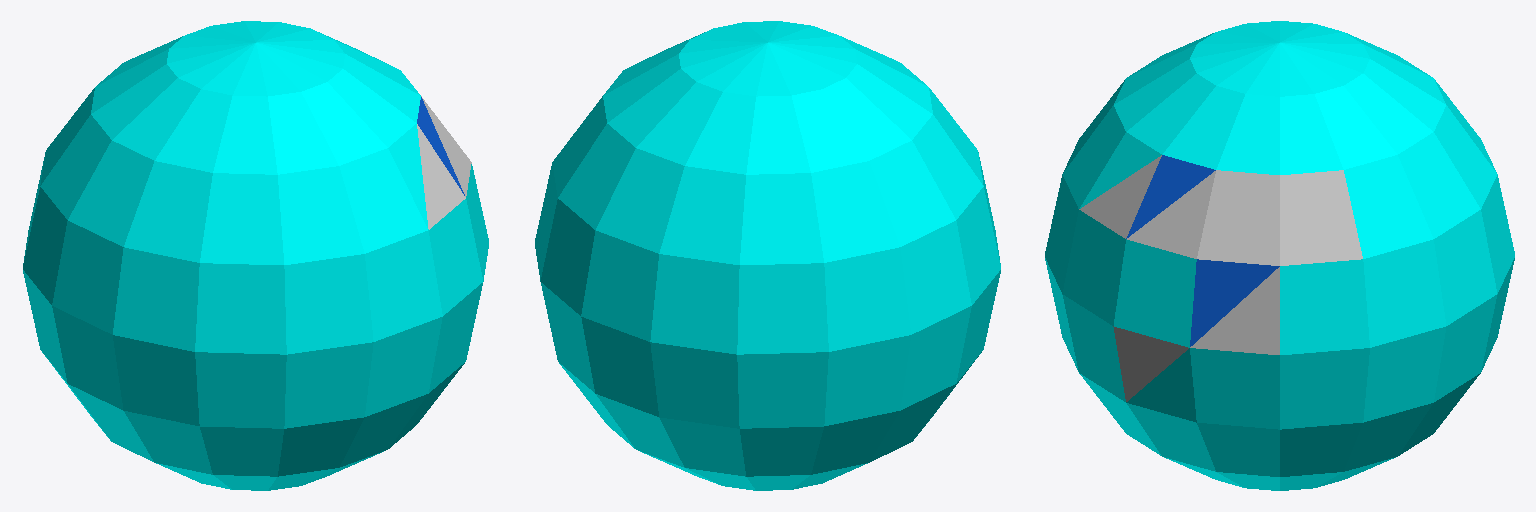
Rendered from MiniMesh_Sphere_edit.obj.
3 views of the same model, side by side, from view 1: azimuth 30°, elevation 25°; view 2: azimuth 150°, elevation 25°; view 3: azimuth 270°, elevation 25° (orthographic).
Parts seen in each view (by area): view 1: MiniMesh_Sphere; view 2: MiniMesh_Sphere; view 3: MiniMesh_Sphere.
Boxes of the visible parts, x1,y1,x2,y2 form: MiniMesh_Sphere: [23, 21, 488, 490]; MiniMesh_Sphere: [535, 21, 1000, 490]; MiniMesh_Sphere: [1045, 21, 1514, 490].
Bounding box in the file's own units: 1 × 1 × 1.